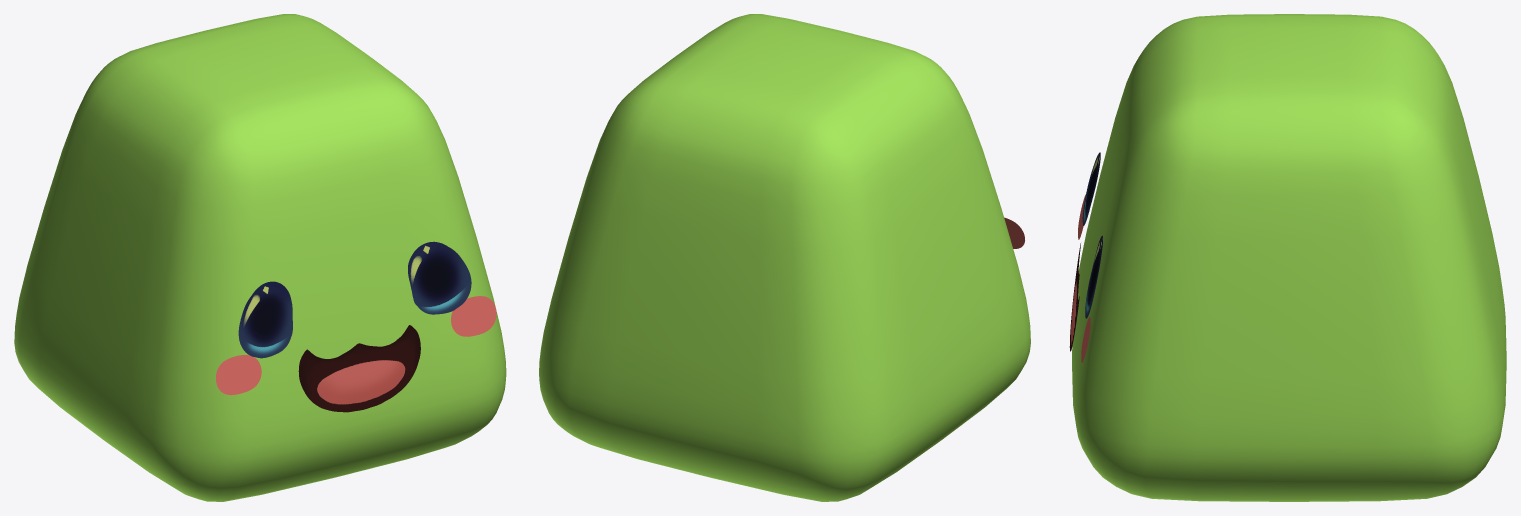
File: Tumble_Basejelly.fbx
The picture shows the model from 3 angles, left to right: view 1: azimuth 30°, elevation 25°; view 2: azimuth 150°, elevation 25°; view 3: azimuth 270°, elevation 25°; orthographic projection. The views are drawn at different scales.
Parts seen in each view (by area): view 1: Tumble Body.001, Mouth, LeftEye, RightEye, RightBlush, LeftBlush; view 2: Tumble Body.001; view 3: Tumble Body.001, LeftEye, RightEye.
Boxes of the visible parts, x1=… form: Tumble Body.001: x1=14, y1=14, x2=506, y2=501; Mouth: x1=298, y1=325, x2=420, y2=412; LeftEye: x1=408, y1=241, x2=471, y2=314; RightEye: x1=238, y1=281, x2=292, y2=358; RightBlush: x1=216, y1=355, x2=261, y2=395; LeftBlush: x1=451, y1=296, x2=496, y2=336; Tumble Body.001: x1=539, y1=14, x2=1030, y2=501; Tumble Body.001: x1=1072, y1=14, x2=1506, y2=501; LeftEye: x1=1085, y1=235, x2=1102, y2=318; RightEye: x1=1082, y1=152, x2=1100, y2=225.
Bounding box in the file's own units: 200 × 200 × 202.
